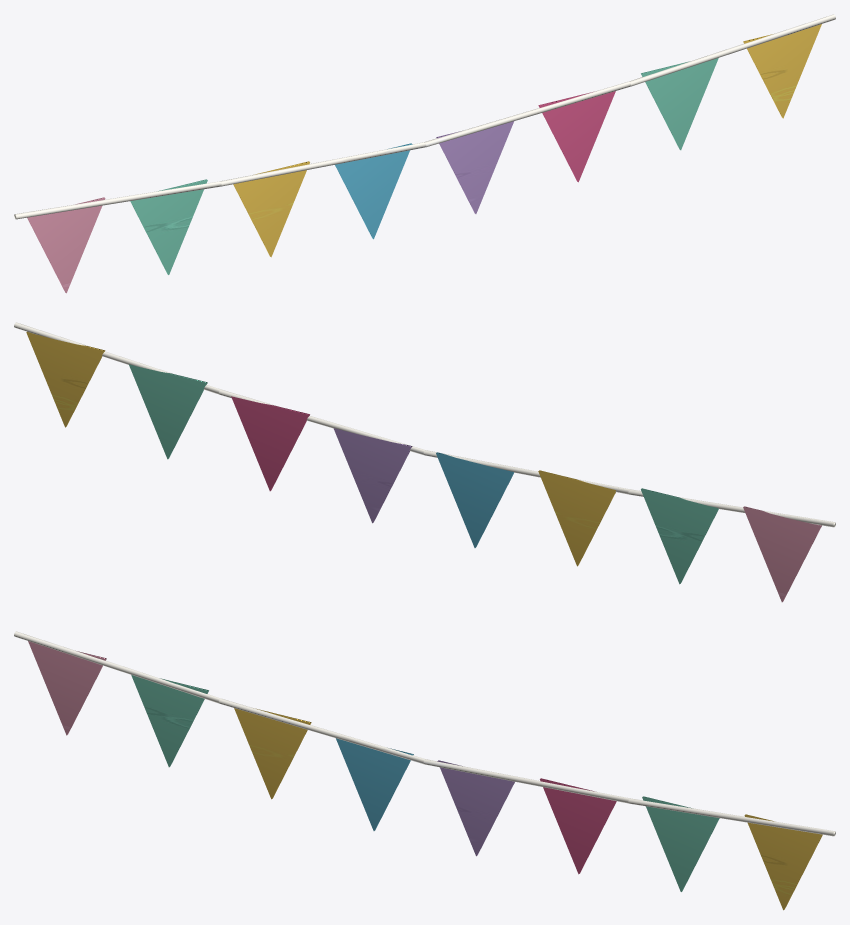
File: guirnalda_banderines.obj
3 views of the same model, one above another, from view 1: azimuth 30°, elevation 25°; view 2: azimuth 150°, elevation 25°; view 3: azimuth 330°, elevation 25° (orthographic).
Parts seen in each view (by area): view 1: guirnalda_banderines; view 2: guirnalda_banderines; view 3: guirnalda_banderines.
Boxes of the visible parts, x1,y1,x2,y2 form: guirnalda_banderines: (14,14,835,293); guirnalda_banderines: (14,322,835,602); guirnalda_banderines: (14,631,835,910).
Size of the model in its own units: 4 by 0.5257 by 0.024.
Materials: 7 (7 with a texture image).
